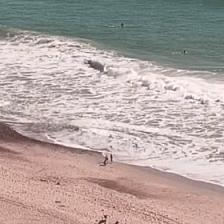surfer: (181, 50, 186, 54), (121, 22, 124, 26)
